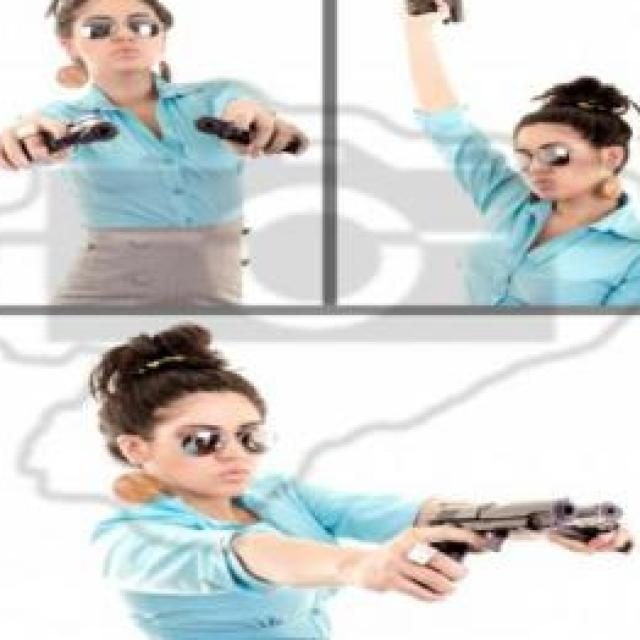pistol: (398, 498, 578, 589), (2, 108, 130, 168), (518, 498, 640, 560), (195, 110, 314, 157), (398, 0, 469, 27)
